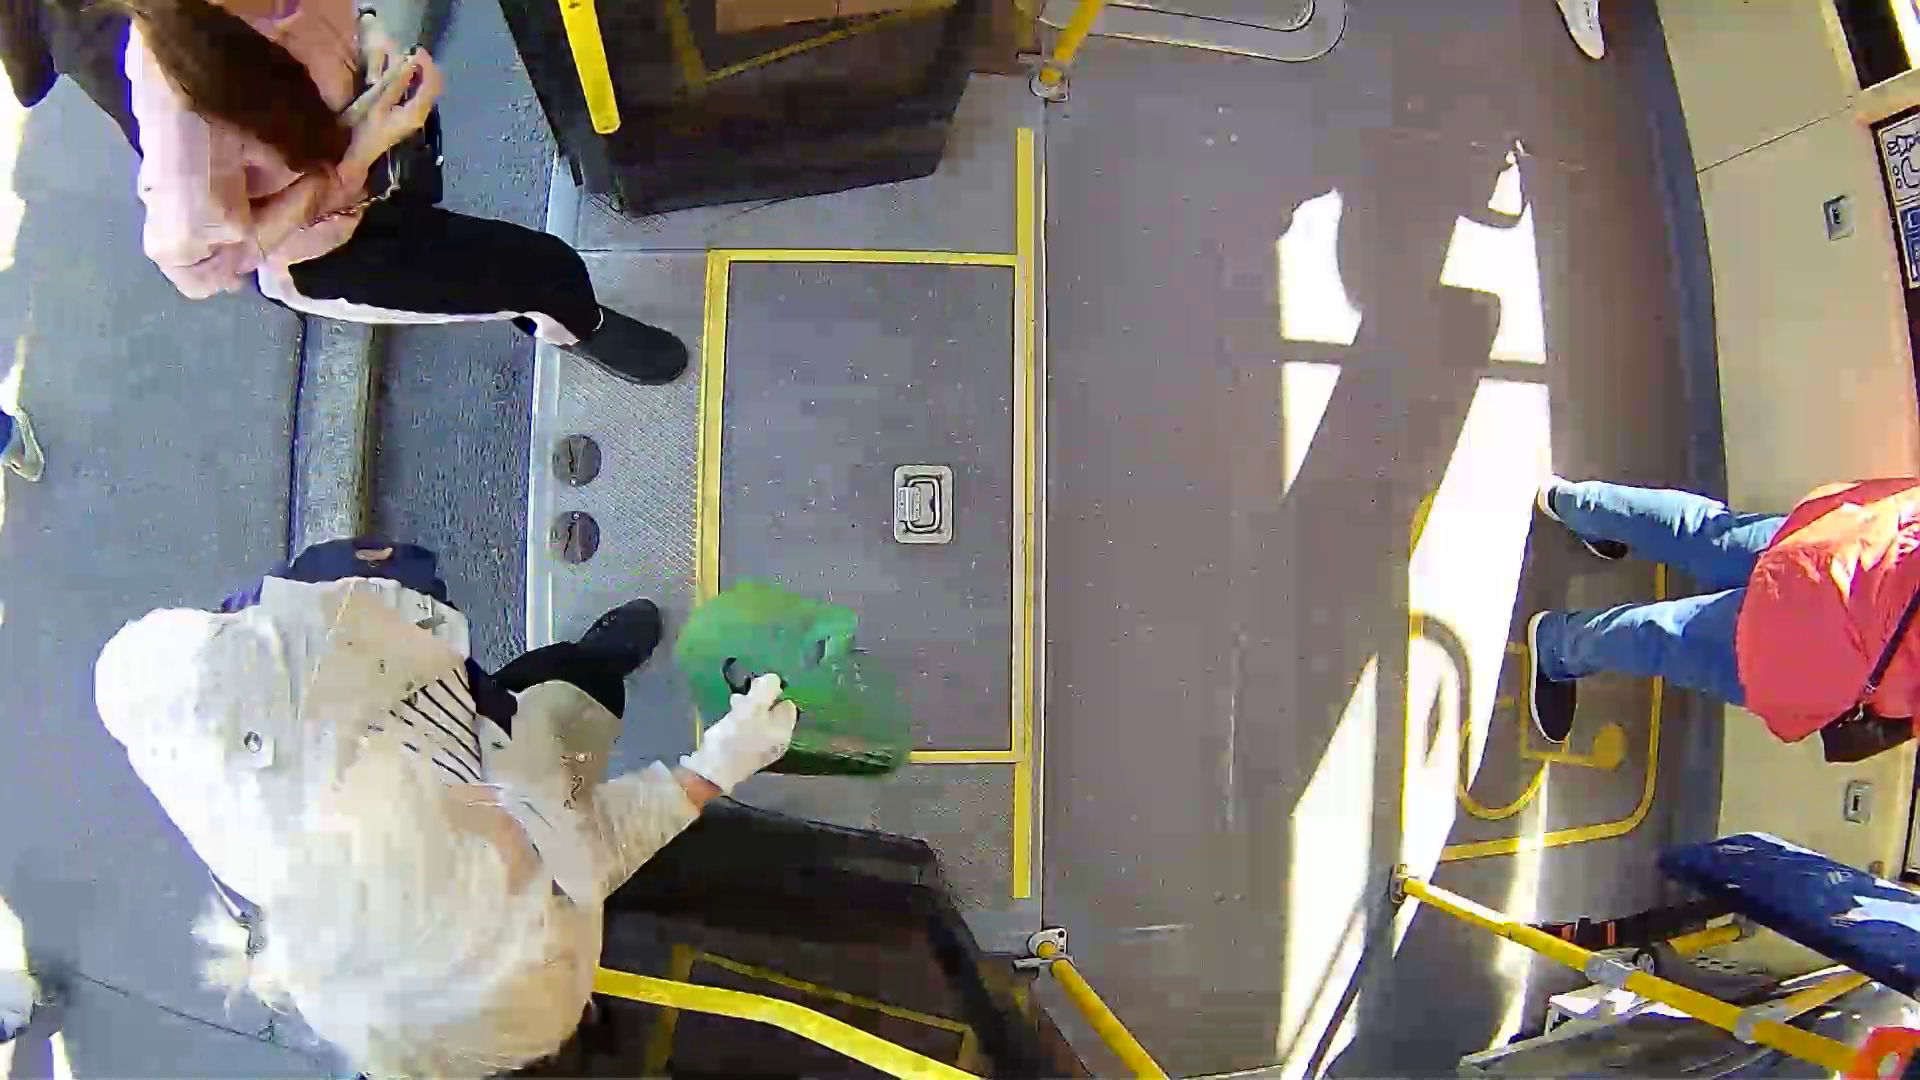person: (30, 553, 904, 1018), (42, 28, 834, 429)
